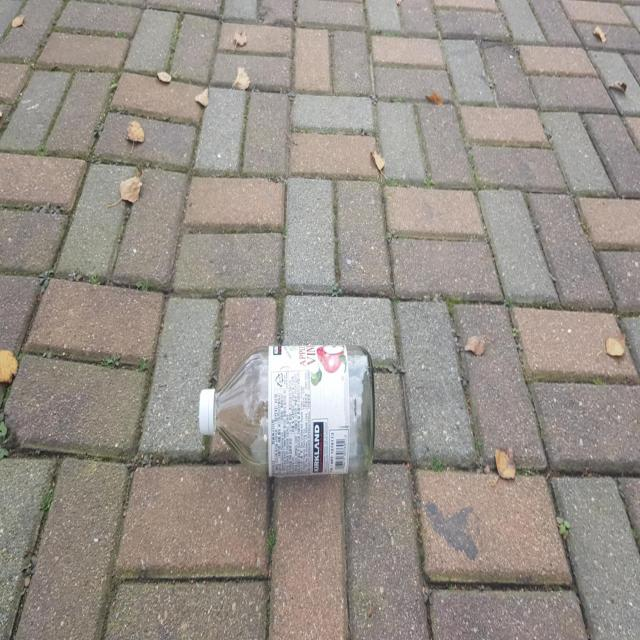glass: (199, 345, 375, 476)
